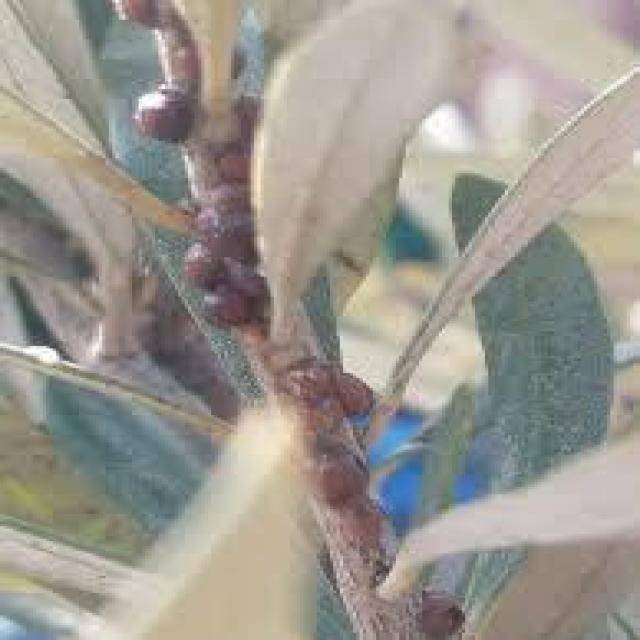Black Scale: (270, 352, 389, 556), (178, 93, 276, 330), (109, 0, 207, 141), (412, 591, 472, 638)
